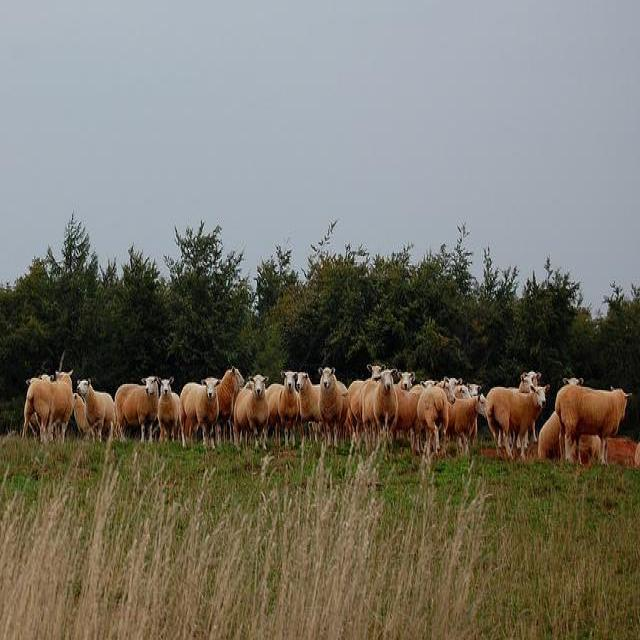Sheep: (39, 328, 601, 481), (556, 384, 633, 465), (486, 384, 551, 462), (22, 370, 74, 444), (116, 375, 161, 444), (233, 375, 270, 455), (179, 380, 221, 450), (77, 378, 119, 444), (447, 395, 487, 456)
